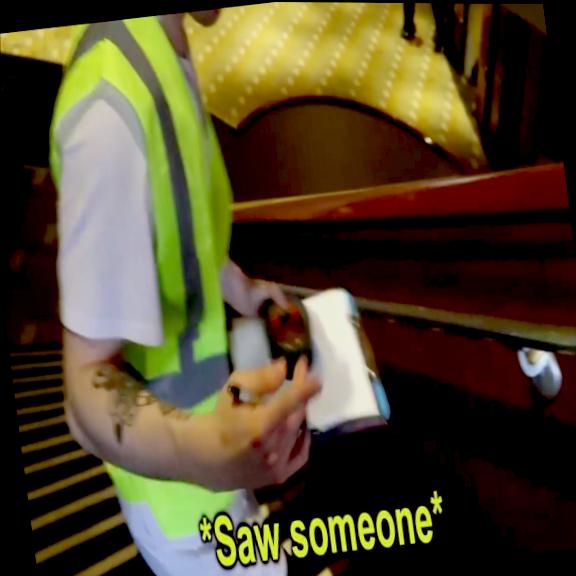safety_vest: (34, 8, 275, 546)
